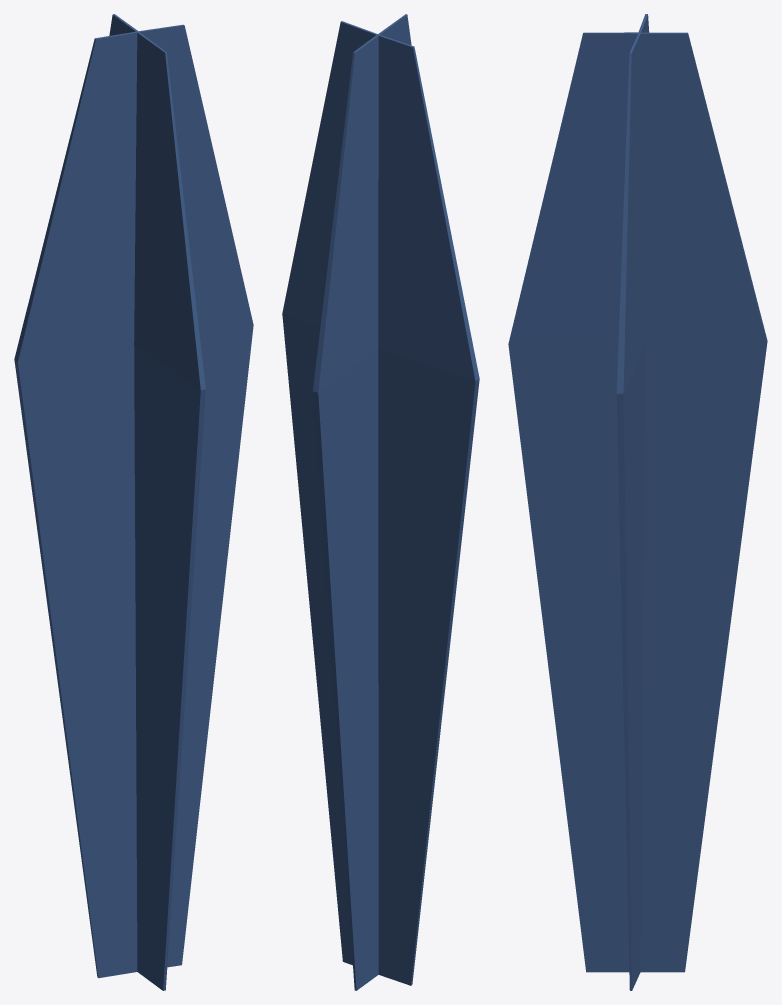
Rendered from tree-winter-leaves-033.glb.
3 renders of one model, left to right at view 1: azimuth 30°, elevation 25°; view 2: azimuth 150°, elevation 25°; view 3: azimuth 270°, elevation 25°, orthographic.
Parts seen in each view (by area): view 1: Plane.057_170; view 2: Plane.057_170; view 3: Plane.057_170.
Part boxes in pixels (x1=…): Plane.057_170: x1=14, y1=14, x2=253, y2=990; Plane.057_170: x1=282, y1=14, x2=479, y2=990; Plane.057_170: x1=508, y1=14, x2=767, y2=990.
Bounding box in the file's own units: 0.3317 × 1.38 × 0.3466.
